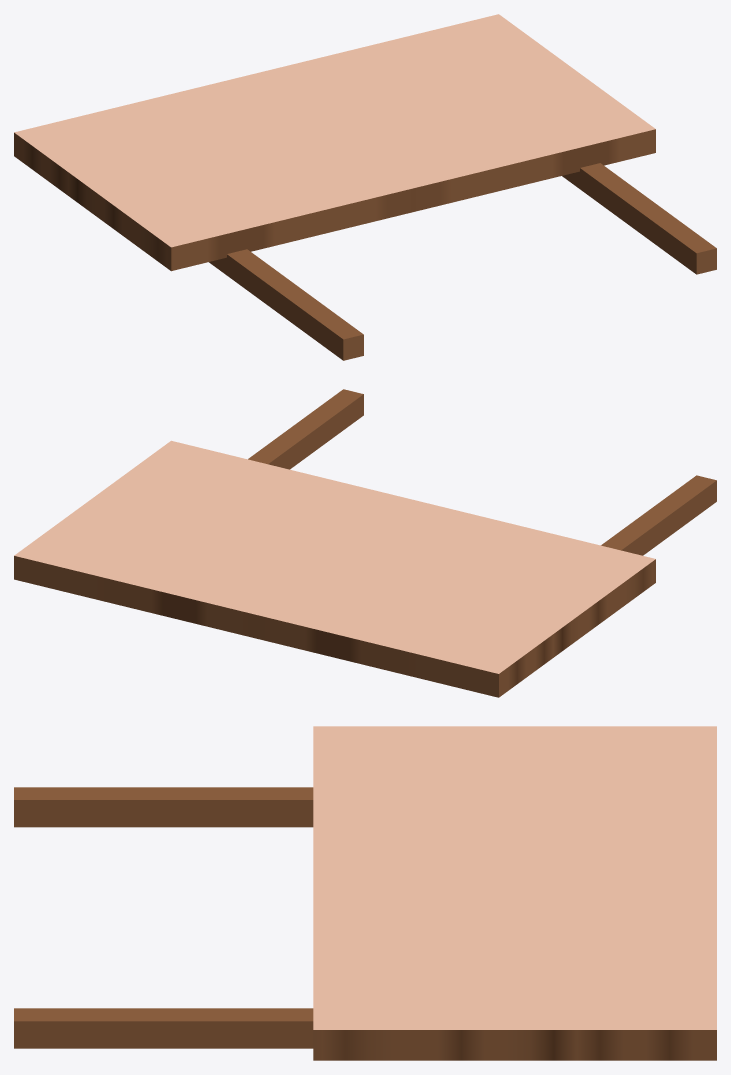
File: cartel.fbx
3 views of the same model, one above another, from view 1: azimuth 30°, elevation 25°; view 2: azimuth 150°, elevation 25°; view 3: azimuth 270°, elevation 25° (orthographic). The views are drawn at different scales.
Visible parts, largest first — view 1: cartel; view 2: cartel; view 3: cartel.
Part boxes in pixels (bbox=[...]): cartel: bbox=[14, 14, 716, 360]; cartel: bbox=[14, 389, 716, 697]; cartel: bbox=[14, 726, 716, 1060].
Bounding box in the file's own units: 200 × 16.39 × 196.
